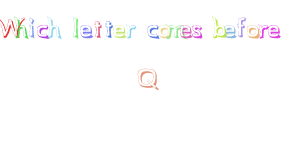Q: (131, 62, 165, 93)
W: (1, 12, 20, 41)
b: (209, 9, 227, 41)
c: (144, 19, 160, 40), (36, 21, 50, 43)
e: (267, 20, 283, 41), (79, 21, 93, 41), (223, 20, 237, 40), (113, 22, 126, 42), (179, 22, 192, 41)
f: (235, 12, 246, 40)
h: (13, 11, 29, 40), (47, 12, 62, 41)
i: (27, 15, 37, 43)
l: (68, 12, 80, 40)
m: (166, 20, 185, 42)
o: (156, 21, 172, 41), (246, 22, 260, 40)
r: (124, 18, 138, 41), (256, 21, 269, 41)
s: (191, 20, 206, 43)
t: (103, 17, 114, 41), (93, 17, 103, 40)
